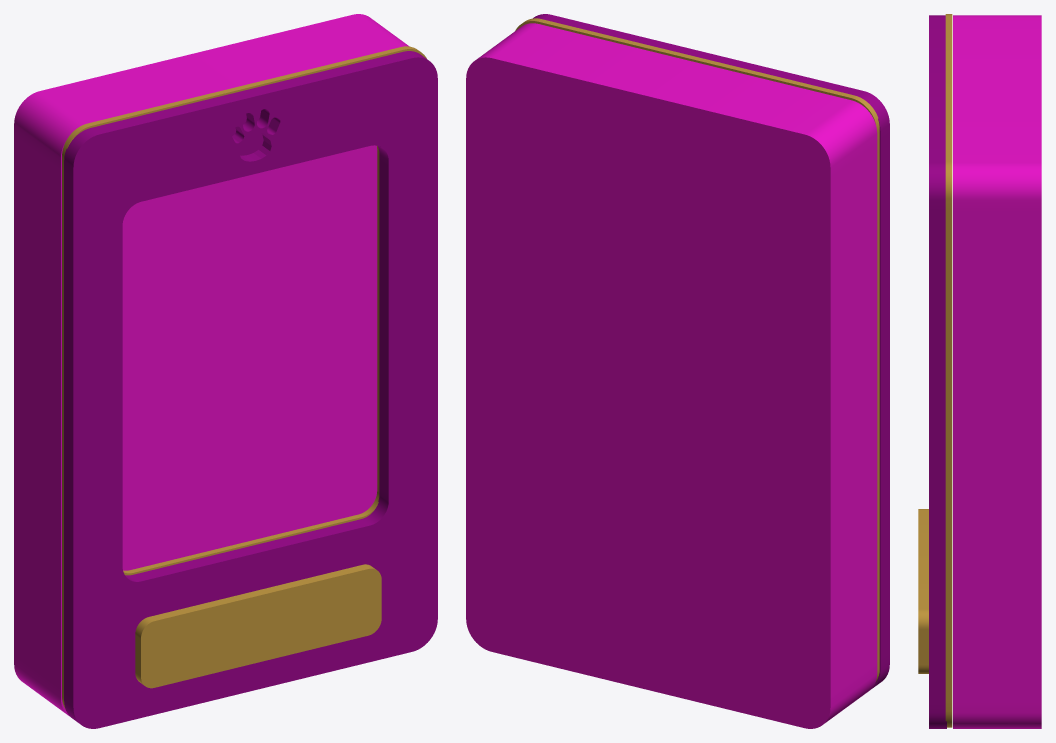
Rendered from celuvet.glb.
3 views of the same model, side by side, from view 1: azimuth 30°, elevation 25°; view 2: azimuth 150°, elevation 25°; view 3: azimuth 270°, elevation 25° (orthographic). The views are drawn at different scales.
Visible parts, largest first — view 1: Curve, Curve.001, Curve.003, neon; view 2: Curve, Curve.001, neon; view 3: Curve, Curve.001, neon, Curve.003.
Part boxes in pixels (x1,y1,x2,y2): Curve: (14, 14, 409, 716); Curve.001: (64, 51, 437, 728); Curve.003: (135, 564, 381, 688); neon: (62, 46, 426, 708); Curve: (466, 23, 877, 728); Curve.001: (533, 14, 889, 688); neon: (515, 18, 879, 681); Curve: (953, 15, 1041, 728); Curve.001: (929, 15, 946, 728); neon: (945, 14, 952, 727); Curve.003: (918, 509, 928, 673).
Size of the model in its own units: 0.0902 by 0.1406 by 0.0278.
